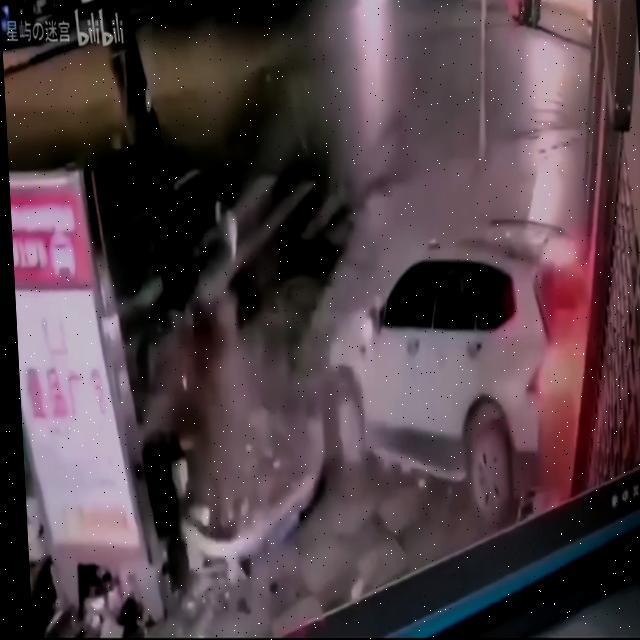multiple_accident: (182, 199, 616, 541)
